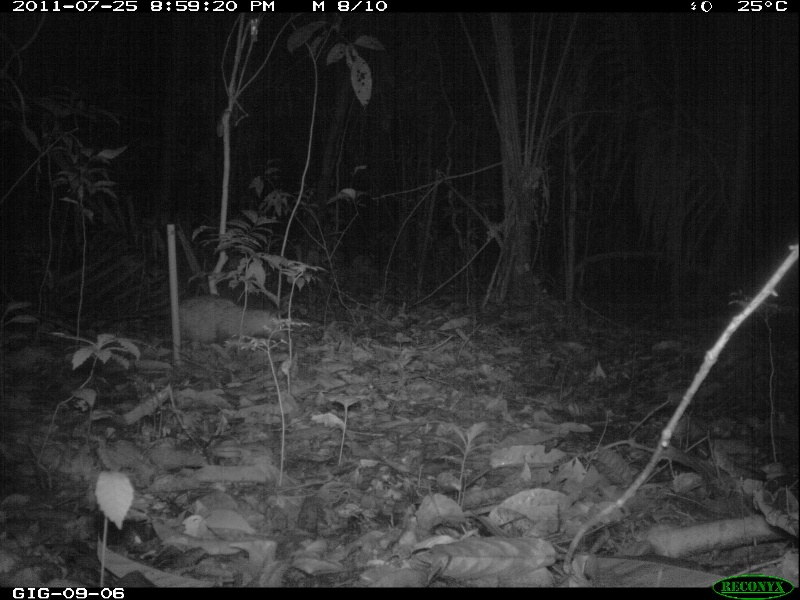opossum: (141, 287, 283, 340)
